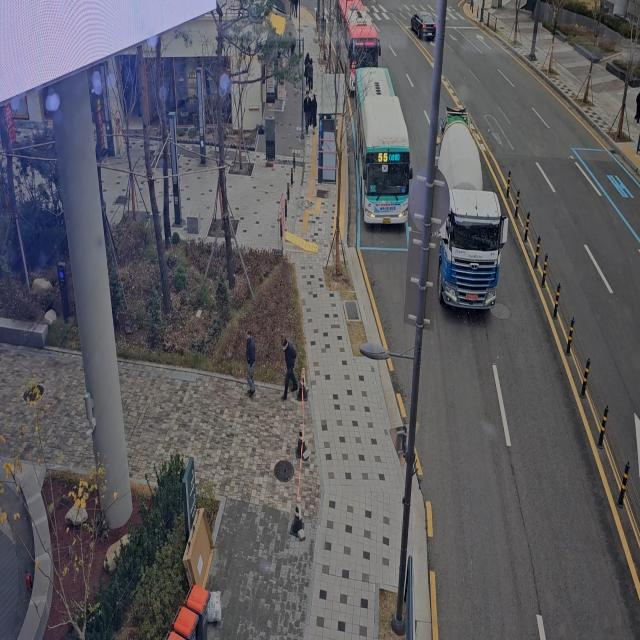Bus: (350, 60, 410, 239), (338, 0, 384, 95)
Car: (409, 2, 440, 44)
Truck: (430, 94, 509, 326)
